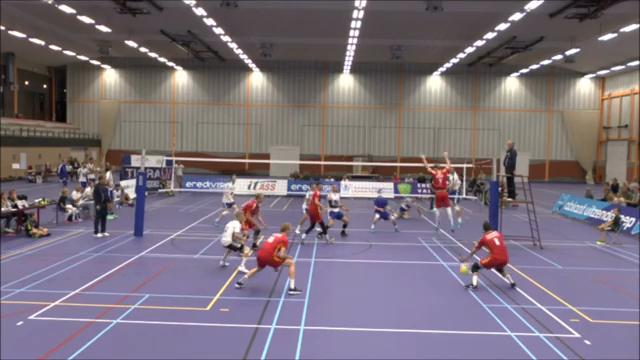attacco: (442, 161, 466, 229)
difesa: (454, 216, 519, 290)
muro: (413, 147, 461, 234)
